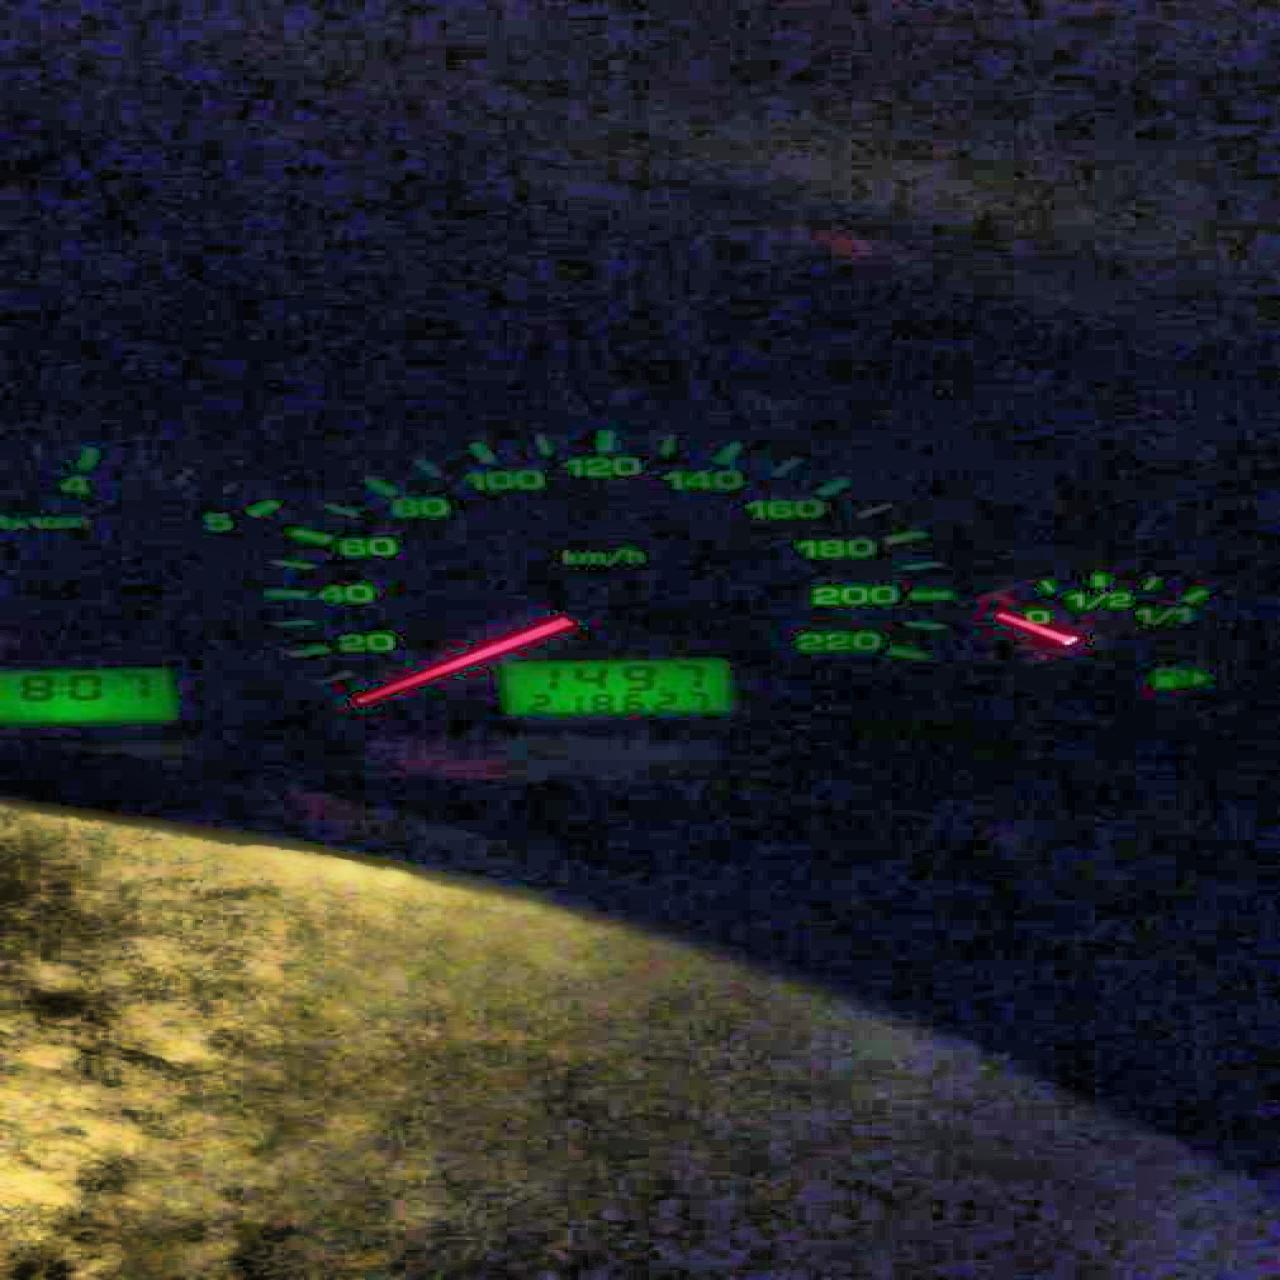-: (654, 682, 667, 692)
1: (543, 666, 560, 689), (565, 693, 583, 713)
2: (522, 693, 550, 713), (648, 692, 674, 712)
4: (567, 663, 608, 688)
6: (615, 693, 641, 712)
7: (669, 661, 707, 690), (679, 692, 710, 712)
8: (586, 693, 613, 712)
9: (618, 663, 654, 692)
odometer: (486, 653, 742, 722)
